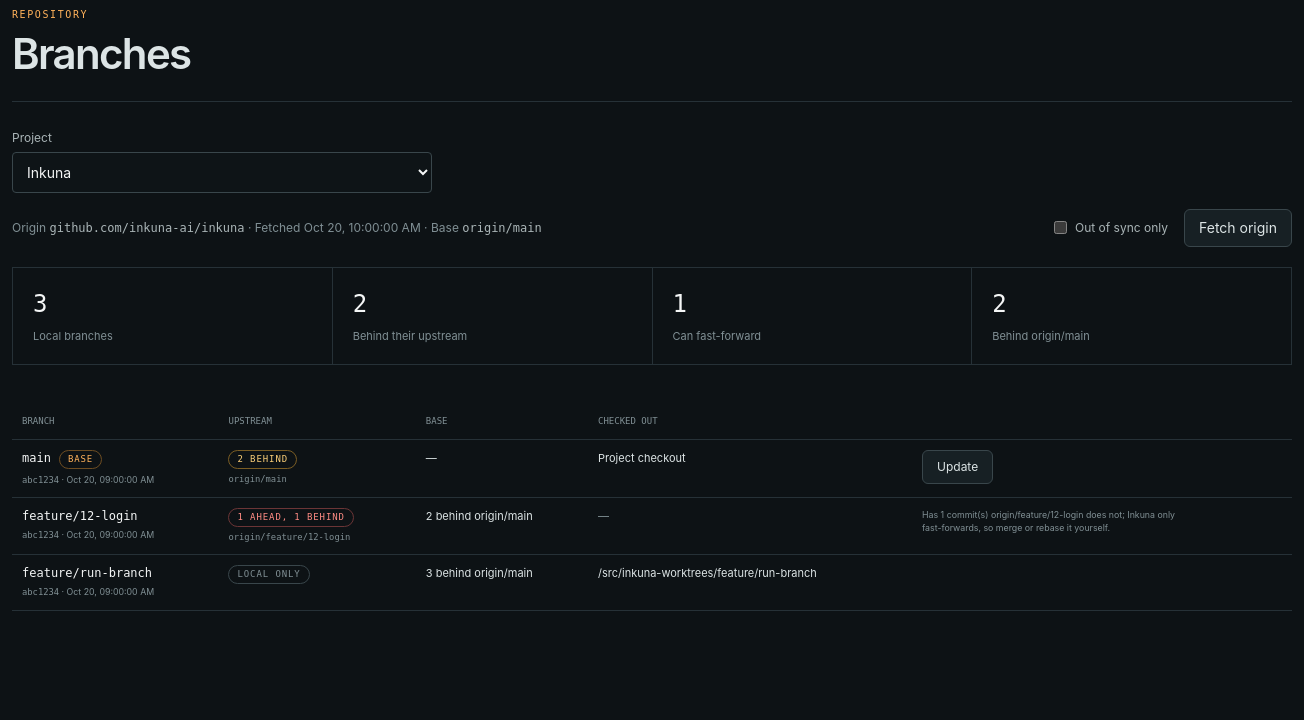
BranchesView › shows Go's reason when an update is refused
Click the button with aria-label "Update main" at (958, 466), box [922,450,993,484]
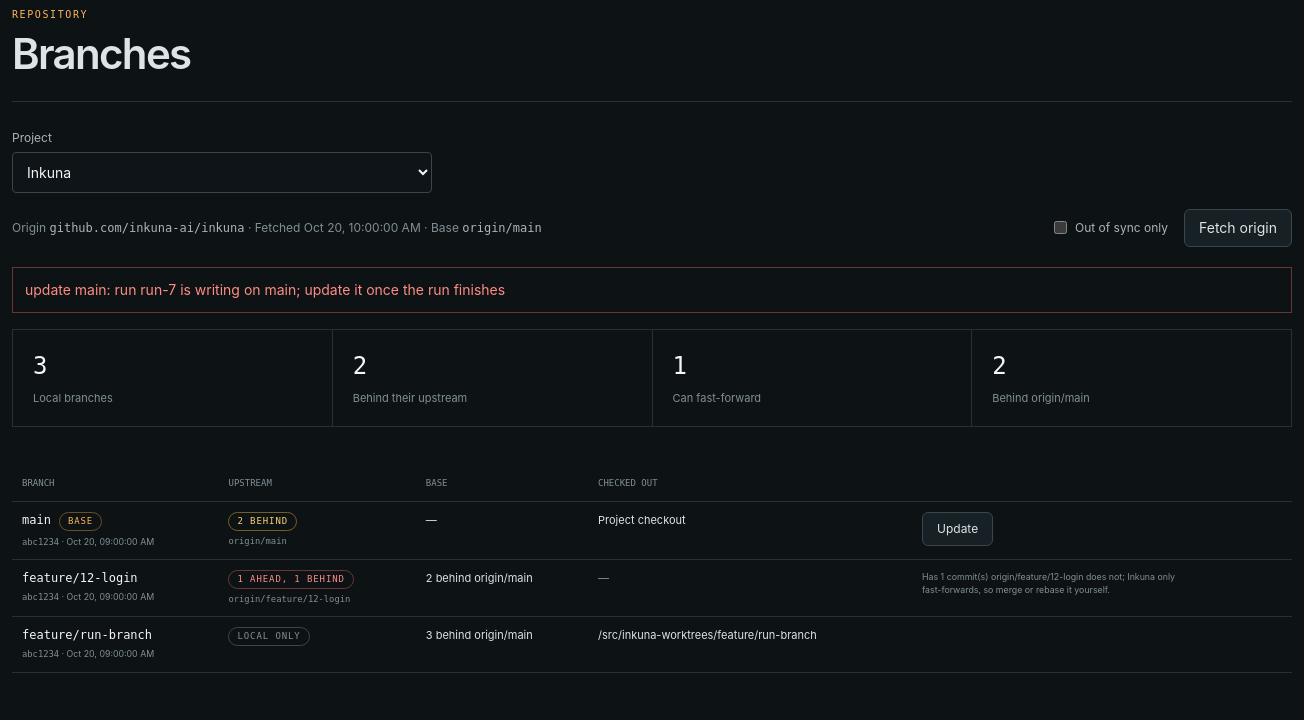
Expected: the button with aria-label "Update main" is enabled, [922,512,993,546]
Result: the message shows "run run-7 is writing on main" at [25,280,505,298]
